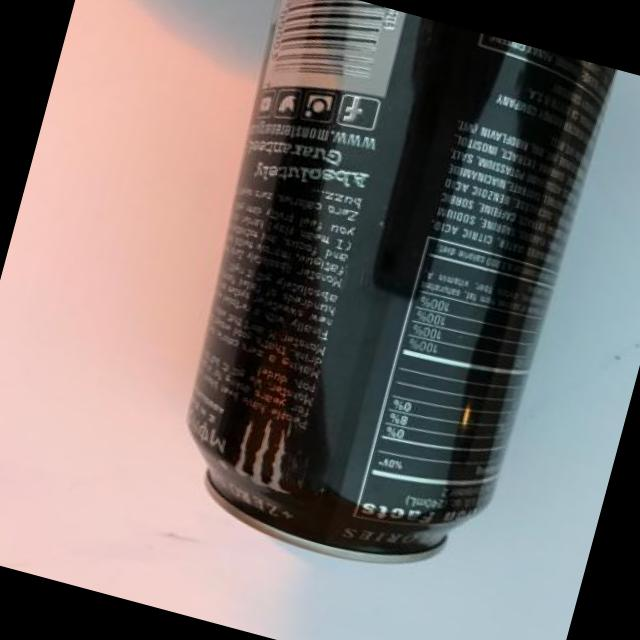metal: (205, 473, 444, 564)
